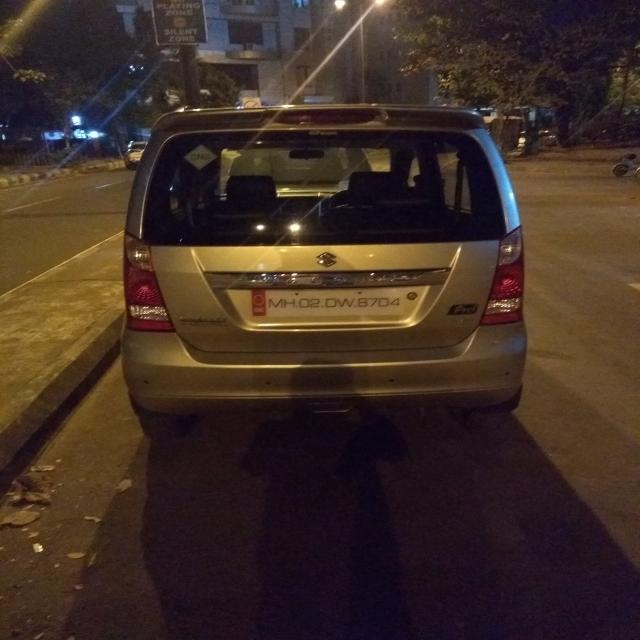Number-Plate: (262, 288, 414, 316)
